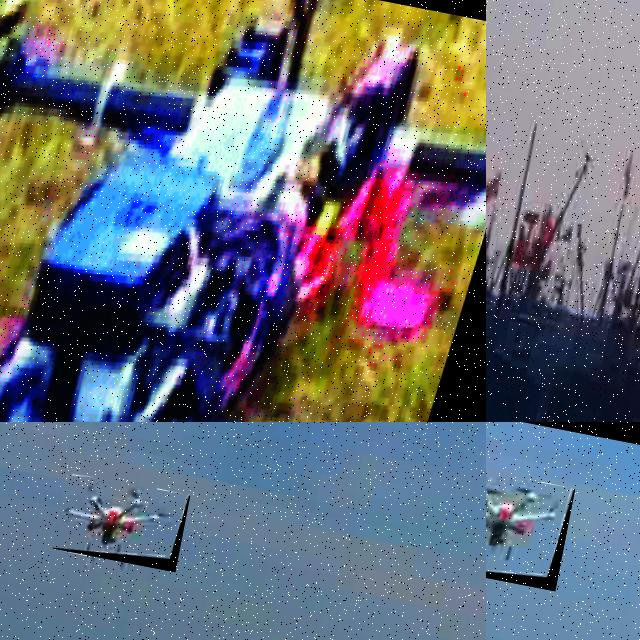drone: (0, 0, 486, 422), (53, 472, 190, 572), (486, 465, 575, 591)
